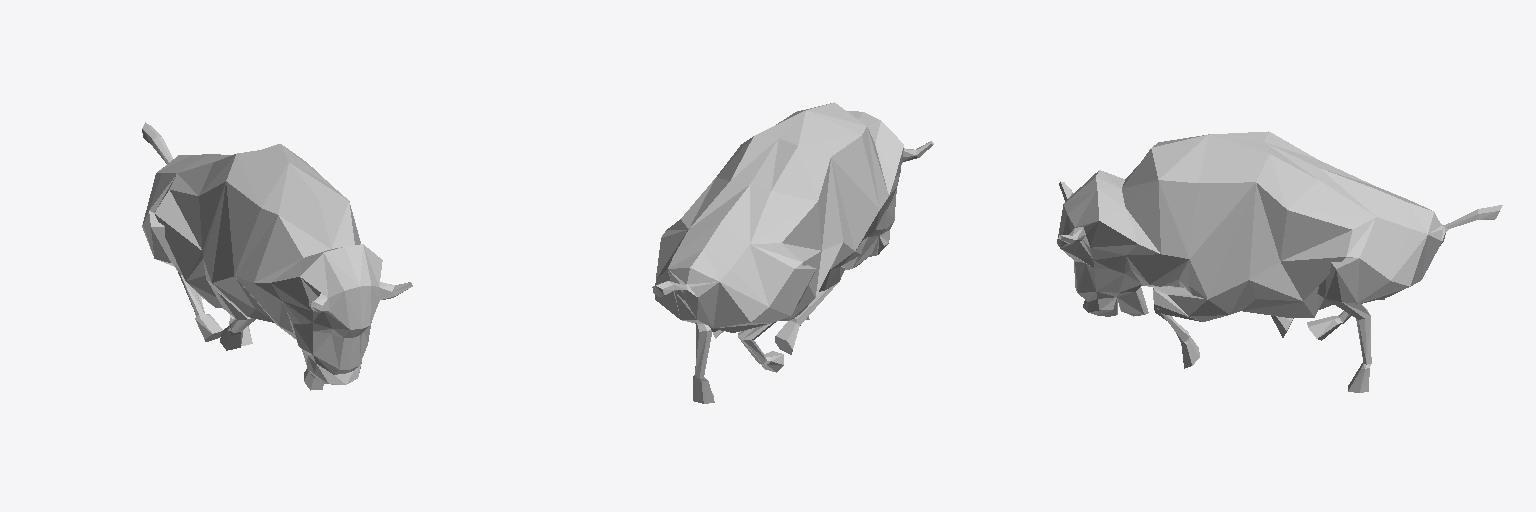
File: bison_004.obj
3 renders of one model, left to right at view 1: azimuth 30°, elevation 25°; view 2: azimuth 150°, elevation 25°; view 3: azimuth 270°, elevation 25°, orthographic.
Visible parts, largest first — view 1: comp_bison_rig:bison_body comp_bison_rig:bison; view 2: comp_bison_rig:bison_body comp_bison_rig:bison; view 3: comp_bison_rig:bison_body comp_bison_rig:bison.
Boxes of the visible parts, box(x1,y1,x2,y2) form: comp_bison_rig:bison_body comp_bison_rig:bison: box(142, 122, 412, 390); comp_bison_rig:bison_body comp_bison_rig:bison: box(652, 102, 933, 403); comp_bison_rig:bison_body comp_bison_rig:bison: box(1057, 131, 1502, 392).
Size of the model in its own units: 126 by 189 by 317.